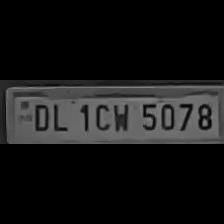0: (158, 100, 176, 132)
1: (72, 100, 92, 134)
5: (136, 99, 158, 131)
7: (175, 100, 193, 132)
8: (194, 100, 214, 132)
C: (91, 100, 111, 132)
D: (28, 100, 50, 132)
L: (48, 99, 72, 133)
W: (110, 100, 132, 134)
